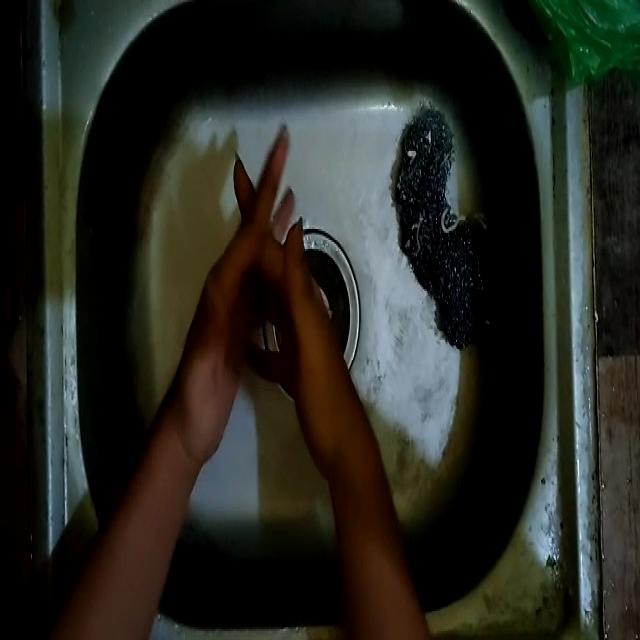step_3: (180, 118, 348, 460)
